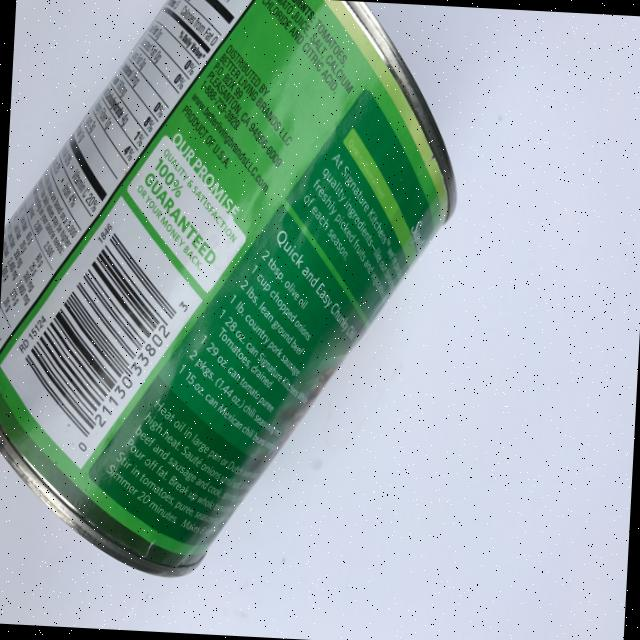metal: (0, 0, 467, 592)
